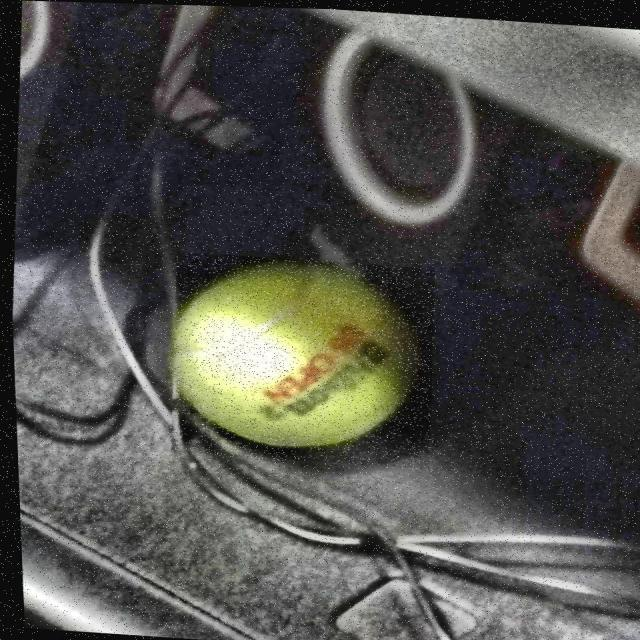tennis-ball: (160, 250, 442, 470)
